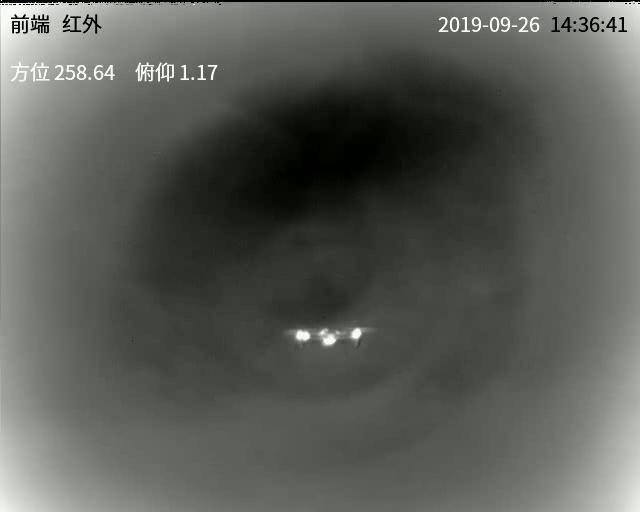DRONE: (295, 327, 363, 350)
